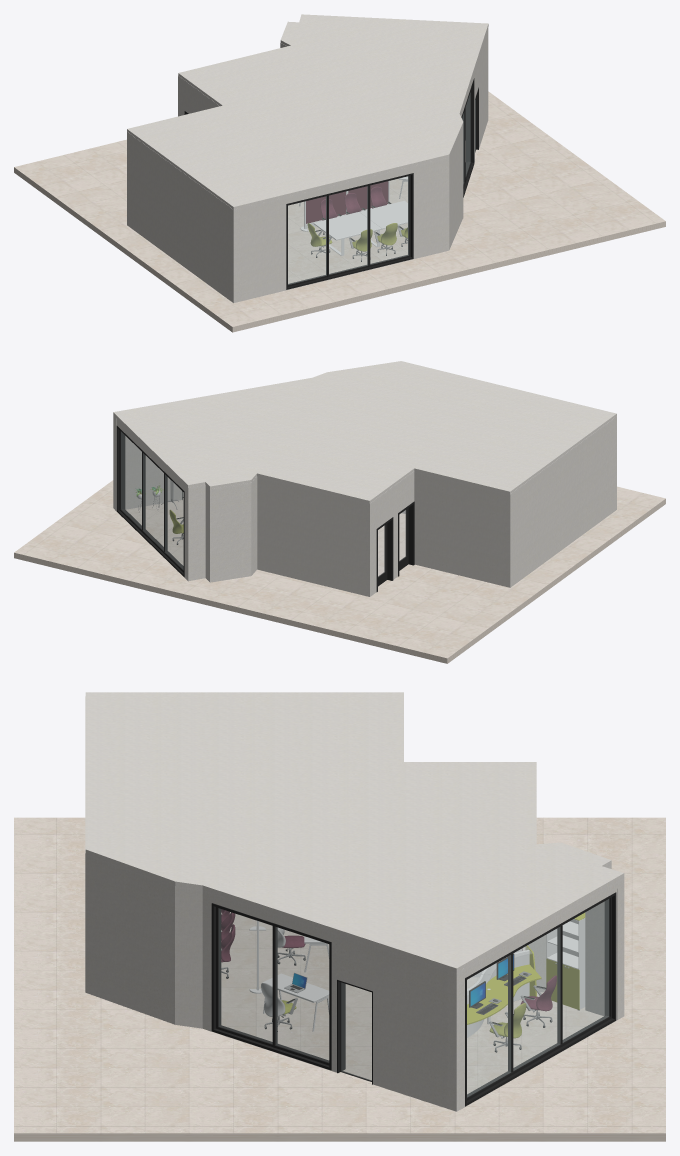
Rendered from office-fond-v1.glb.
The picture shows the model from 3 angles, top to bottom: view 1: azimuth 30°, elevation 25°; view 2: azimuth 150°, elevation 25°; view 3: azimuth 270°, elevation 25°; orthographic projection. The views are drawn at different scales.
Parts seen in each view (by area): view 1: ceiling, Box333, wall, glass3, pavimento, window3, Object069, window2, Piano tavolo sx, Piano tavolo sx.001; view 2: ceiling, wall, Box333, glass1, pavimento, window1, door3, door3.001; view 3: ceiling, Box333, wall, pavimento, glass1, glass2, window1, window2, doorglass1, Box001, Shape002, door1 (+3 smaller).
Boxes of the visible parts, x1,y1,x2,y2 form: ceiling: (127, 14, 488, 209); Box333: (14, 91, 665, 332); wall: (127, 28, 488, 303); glass3: (288, 176, 408, 284); pavimento: (234, 126, 486, 303); window3: (286, 173, 413, 289); Object069: (306, 181, 388, 223); window2: (461, 78, 474, 197); Piano tavolo sx: (313, 212, 381, 240); Piano tavolo sx.001: (360, 201, 407, 229); ceiling: (113, 361, 616, 503); wall: (113, 415, 616, 596); Box333: (14, 480, 665, 663); glass1: (121, 432, 183, 569); pavimento: (113, 496, 509, 596); window1: (116, 426, 184, 577); door3: (376, 517, 393, 591); door3.001: (398, 501, 414, 576); ceiling: (85, 692, 624, 972); Box333: (14, 817, 665, 1141); wall: (85, 696, 624, 1111); pavimento: (86, 912, 623, 1111); glass1: (467, 899, 608, 1097); glass2: (219, 908, 328, 1062); window1: (465, 892, 616, 1106); window2: (211, 903, 331, 1070); doorglass1: (341, 983, 371, 1080); Box001: (546, 918, 585, 1009); Shape002: (467, 964, 541, 1024); door1: (337, 980, 372, 1084).
Size of the model in its own units: 15.32 by 3.44 by 13.37.
Materials: 37 (22 with a texture image).
